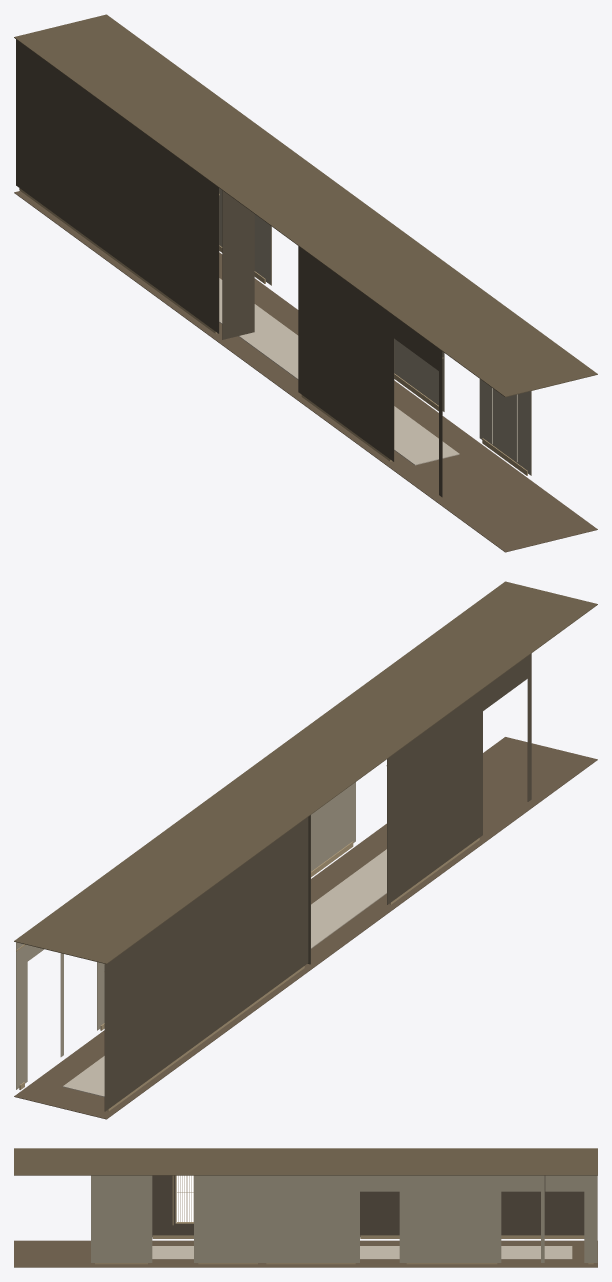
File: corridor-2.glb
3 views of the same model, one above another, from view 1: azimuth 30°, elevation 25°; view 2: azimuth 150°, elevation 25°; view 3: azimuth 270°, elevation 25° (orthographic). The views are drawn at different scales.
Visible parts, largest first — view 1: DESIGN | Entrance coordinated ceiling, DESIGN | Entrance paired wall finish, DESIGN | Entrance floor finish, DESIGN | Entrance paired wall finish.003, DESIGN | Arch approach finish, DESIGN | Entrance quiet runner, DESIGN | Entrance paired wall finish.013, DESIGN | Entrance paired wall finish.012, DESIGN | Entrance paired wall finish.006, DESIGN | Entrance paired wall finish.002; view 2: DESIGN | Entrance coordinated ceiling, DESIGN | Entrance paired wall finish, DESIGN | Entrance floor finish, DESIGN | Entrance paired wall finish.003, DESIGN | Entrance quiet runner, DESIGN | Entrance paired wall finish.012, DESIGN | Entrance paired wall finish.005, DESIGN | Entrance paired wall finish.002, DESIGN | Entrance paired wall finish.001; view 3: DESIGN | Entrance coordinated ceiling, DESIGN | Entrance paired wall finish.006, DESIGN | Entrance paired wall finish.009, DESIGN | Entrance floor finish, DESIGN | Entrance paired wall finish.012, DESIGN | Entrance paired wall finish, DESIGN | Entrance paired wall finish.013, DESIGN | Entrance quiet runner, DESIGN | Entrance paired wall finish.003, DESIGN | Entrance paired wall finish.005, DESIGN | A shadow wall held by warm stone diffuse backing, DESIGN | Entrance paired wall finish.007 (+7 smaller).
Boxes of the visible parts, x1=… form: DESIGN | Entrance coordinated ceiling: x1=14, y1=14, x2=597, y2=397; DESIGN | Entrance paired wall finish: x1=16, y1=39, x2=219, y2=333; DESIGN | Entrance floor finish: x1=14, y1=191, x2=597, y2=552; DESIGN | Entrance paired wall finish.003: x1=298, y1=246, x2=394, y2=461; DESIGN | Arch approach finish: x1=222, y1=190, x2=254, y2=339; DESIGN | Entrance quiet runner: x1=219, y1=278, x2=459, y2=465; DESIGN | Entrance paired wall finish.013: x1=479, y1=379, x2=531, y2=475; DESIGN | Entrance paired wall finish.012: x1=394, y1=339, x2=444, y2=411; DESIGN | Entrance paired wall finish.006: x1=219, y1=188, x2=268, y2=283; DESIGN | Entrance paired wall finish.002: x1=394, y1=316, x2=438, y2=370; DESIGN | Entrance coordinated ceiling: x1=14, y1=581, x2=597, y2=964; DESIGN | Entrance paired wall finish: x1=104, y1=817, x2=308, y2=1111; DESIGN | Entrance floor finish: x1=14, y1=737, x2=597, y2=1119; DESIGN | Entrance paired wall finish.003: x1=387, y1=689, x2=482, y2=904; DESIGN | Entrance quiet runner: x1=62, y1=849, x2=386, y2=1096; DESIGN | Entrance paired wall finish.012: x1=311, y1=782, x2=355, y2=871; DESIGN | Entrance paired wall finish.005: x1=16, y1=942, x2=27, y2=1089; DESIGN | Entrance paired wall finish.002: x1=483, y1=656, x2=527, y2=710; DESIGN | Entrance paired wall finish.001: x1=527, y1=653, x2=531, y2=801; DESIGN | Entrance coordinated ceiling: x1=14, y1=1148, x2=597, y2=1175; DESIGN | Entrance paired wall finish.006: x1=402, y1=1175, x2=501, y2=1262; DESIGN | Entrance paired wall finish.009: x1=262, y1=1175, x2=359, y2=1262; DESIGN | Entrance floor finish: x1=14, y1=1240, x2=597, y2=1267; DESIGN | Entrance paired wall finish.012: x1=194, y1=1175, x2=262, y2=1262; DESIGN | Entrance paired wall finish: x1=360, y1=1176, x2=584, y2=1236; DESIGN | Entrance paired wall finish.013: x1=91, y1=1175, x2=152, y2=1262; DESIGN | Entrance quiet runner: x1=152, y1=1246, x2=572, y2=1259; DESIGN | Entrance paired wall finish.003: x1=152, y1=1175, x2=193, y2=1236; DESIGN | Entrance paired wall finish.005: x1=584, y1=1175, x2=597, y2=1262; DESIGN | A shadow wall held by warm stone diffuse backing: x1=176, y1=1175, x2=193, y2=1222; DESIGN | Entrance paired wall finish.007: x1=501, y1=1175, x2=540, y2=1191.
Size of the model in its own units: 1.7 by 2.73 by 15.61.
